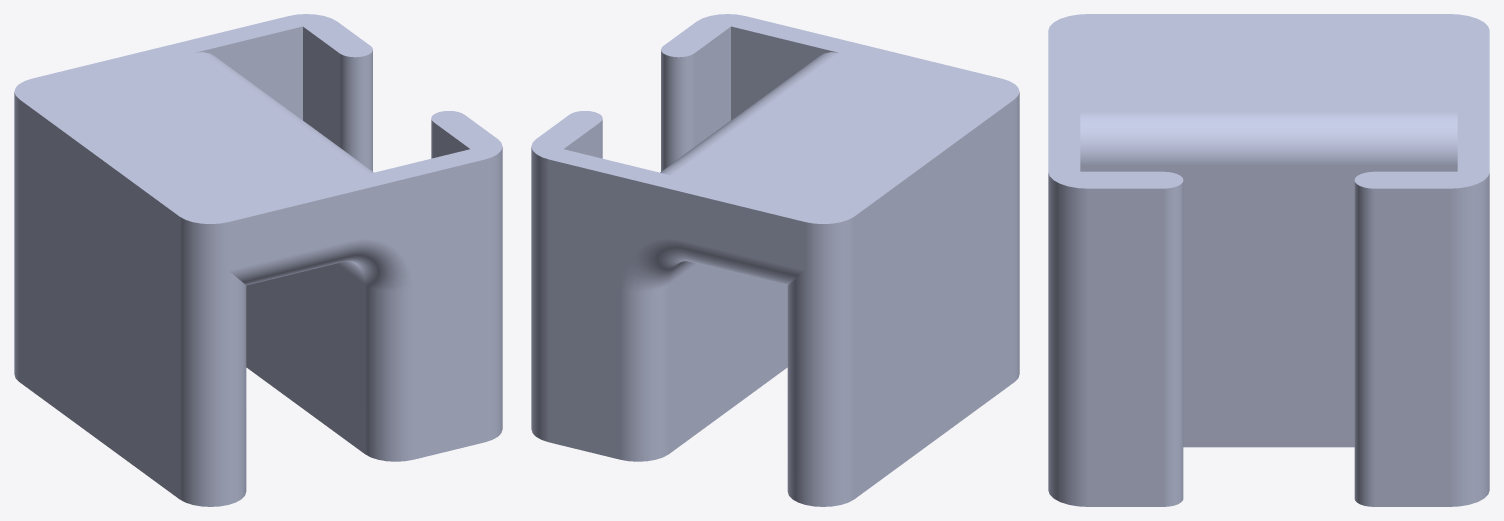
Rendered from MicroMeter Addon.gltf.
The picture shows the model from 3 angles, left to right: view 1: azimuth 30°, elevation 25°; view 2: azimuth 150°, elevation 25°; view 3: azimuth 270°, elevation 25°; orthographic projection. The views are drawn at different scales.
Parts seen in each view (by area): view 1: MicroMeter Addon; view 2: MicroMeter Addon; view 3: MicroMeter Addon.
Boxes of the visible parts, x1,y1,x2,y2 form: MicroMeter Addon: (14, 14, 502, 506); MicroMeter Addon: (531, 14, 1019, 506); MicroMeter Addon: (1048, 14, 1489, 506).
Bounding box in the file's own units: 0.0206 × 0.0175 × 0.022.
